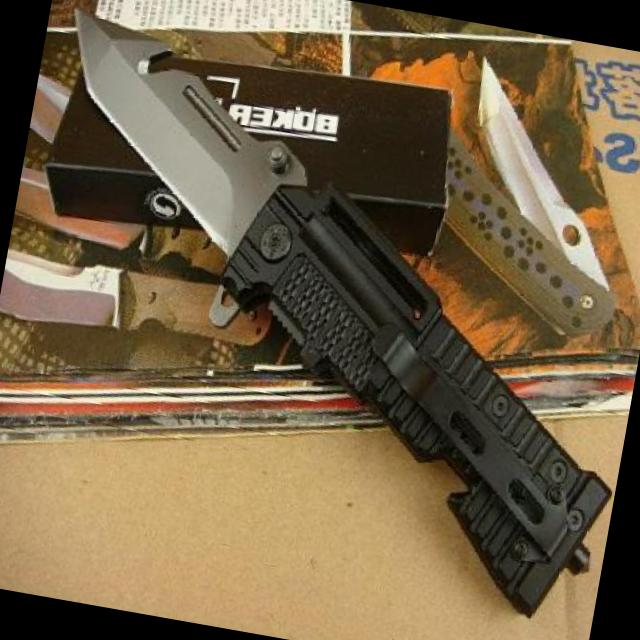knife: (24, 0, 326, 280)
